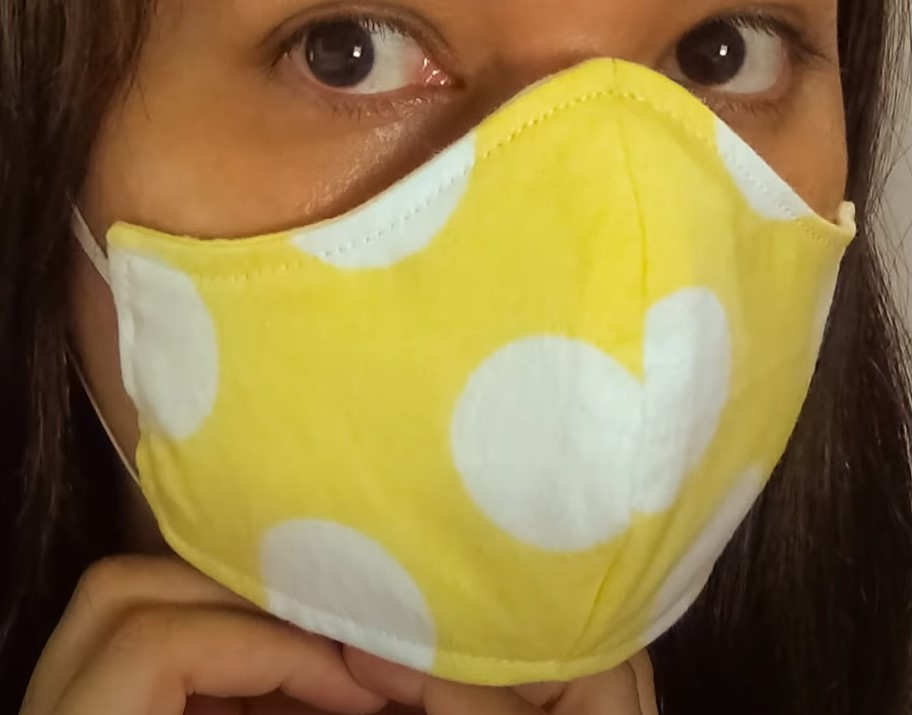face_with_mask: (64, 2, 872, 660)
